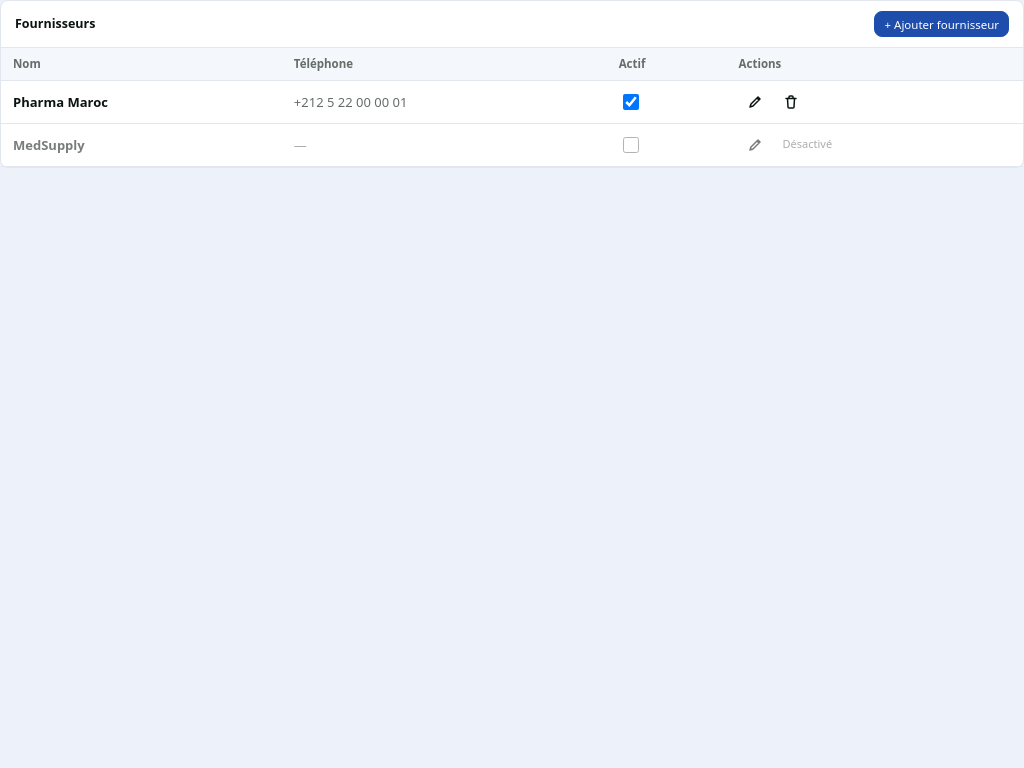
Test: StockParamTab › opens drawer when "+ Ajouter fournisseur" is clicked
What coordinates should you click on to do the following:
click the button "+ Ajouter fournisseur"
I would click on:
 (942, 24)
Its box is x1=874 y1=11 x2=1009 y2=37.
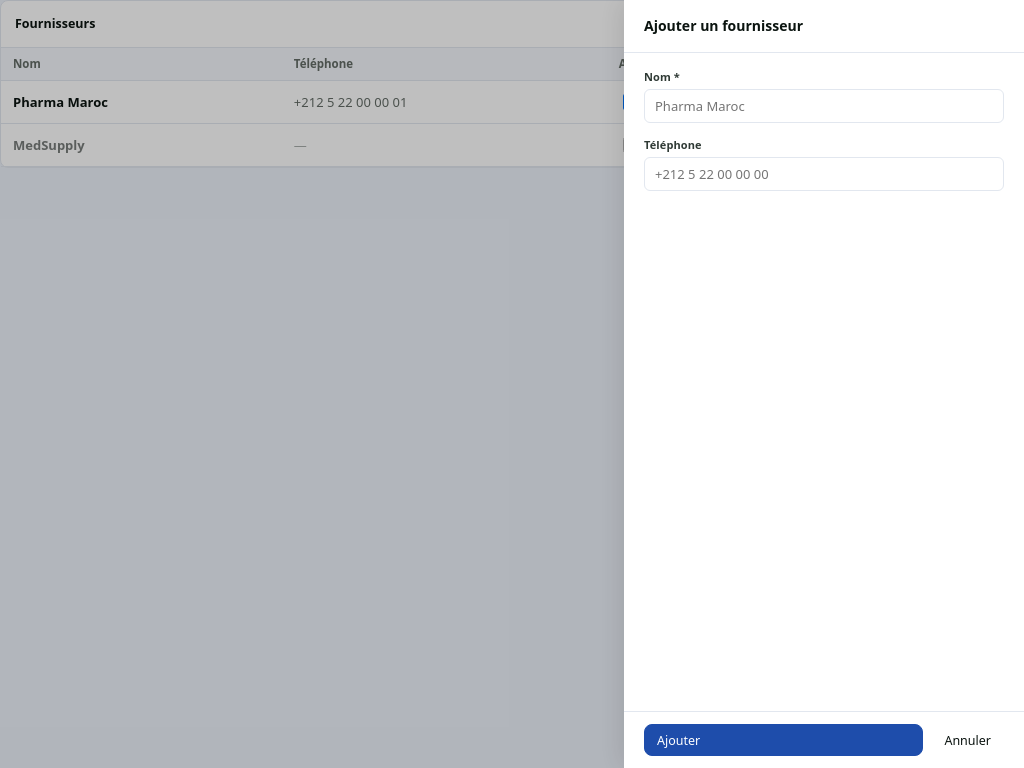
Expected: the dialog "Ajouter un fournisseur Nom * Téléphone Ajouter Annuler" is shown, x1=624 y1=0 x2=1023 y2=767
